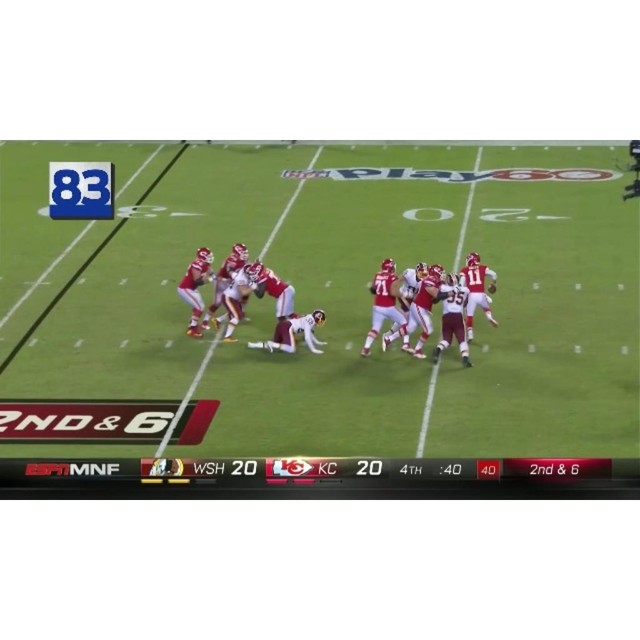american-football-player: (361, 259, 413, 357), (399, 264, 447, 360), (431, 275, 474, 368), (458, 251, 500, 341), (203, 244, 250, 324), (248, 310, 328, 356), (176, 246, 216, 337), (213, 264, 256, 342), (247, 261, 297, 322)
